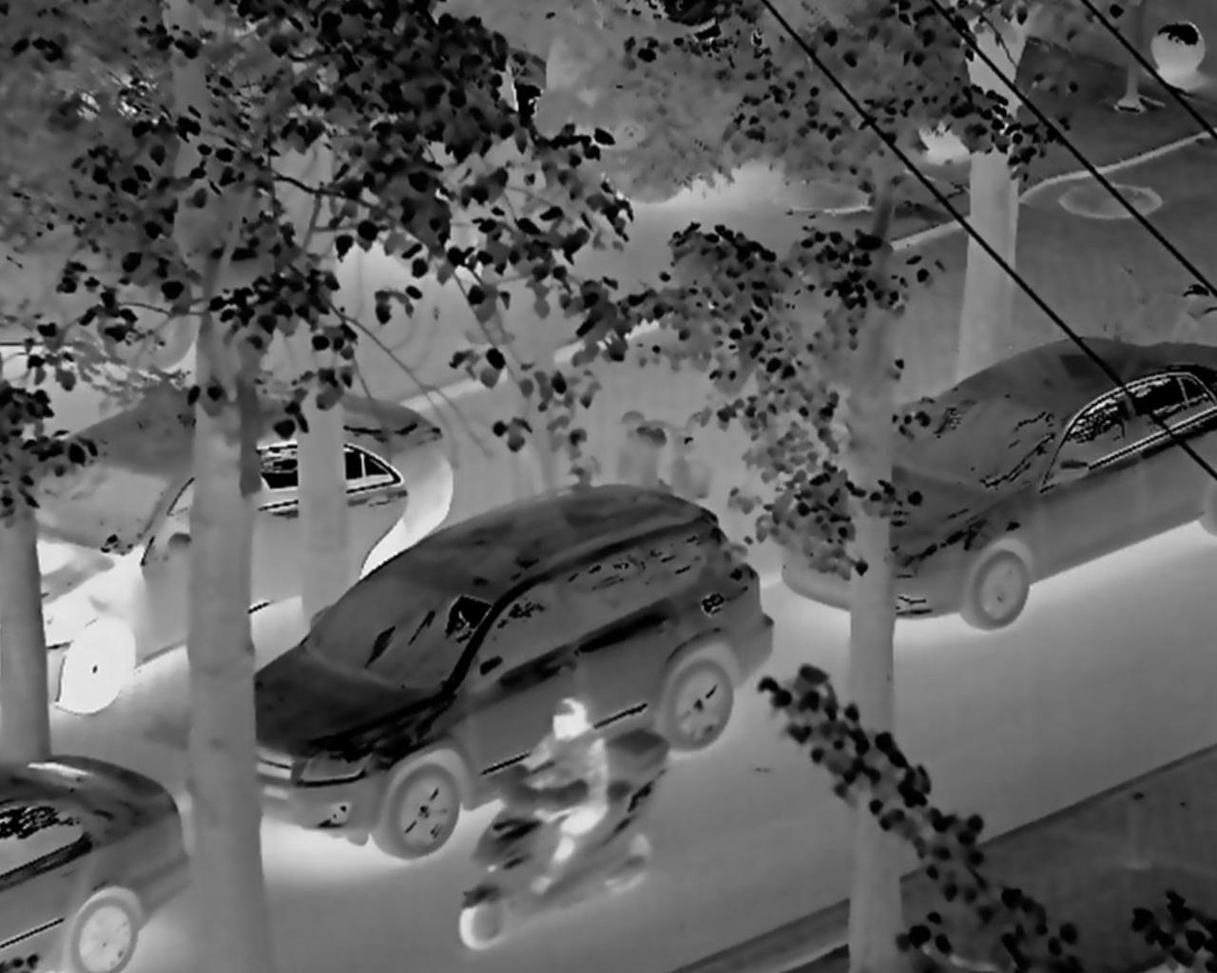person: (512, 698, 608, 903)
